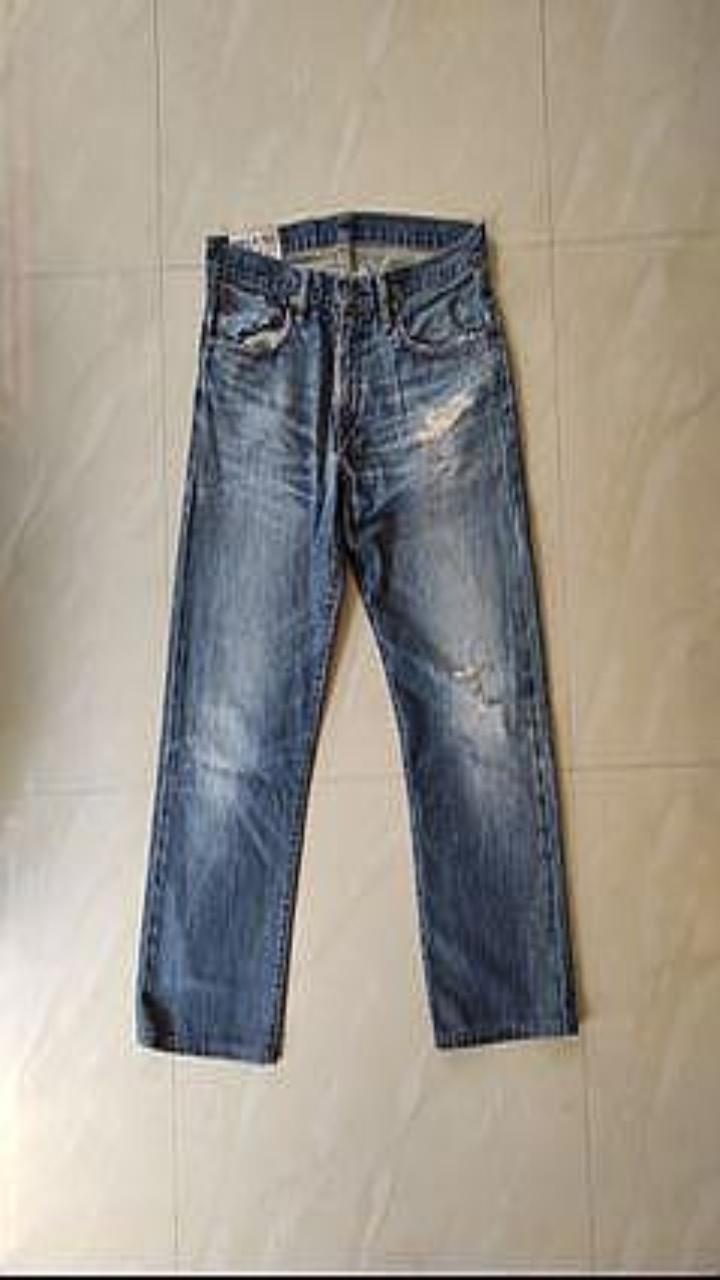Jeans: (136, 211, 577, 1062)
